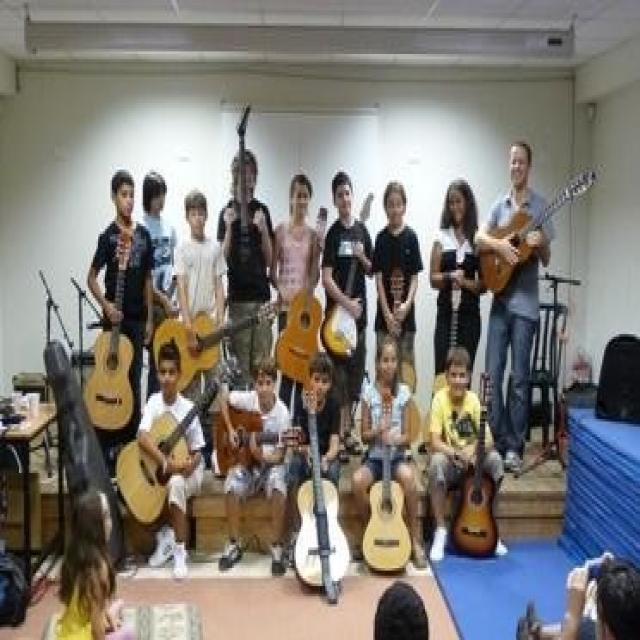guitar: (113, 350, 241, 531), (482, 159, 604, 288), (294, 383, 350, 589), (83, 217, 137, 430), (150, 303, 276, 394), (277, 201, 329, 381), (362, 393, 414, 570), (320, 189, 375, 356), (453, 363, 500, 558), (228, 103, 268, 305), (215, 406, 308, 481), (382, 268, 406, 343), (447, 268, 462, 351)
